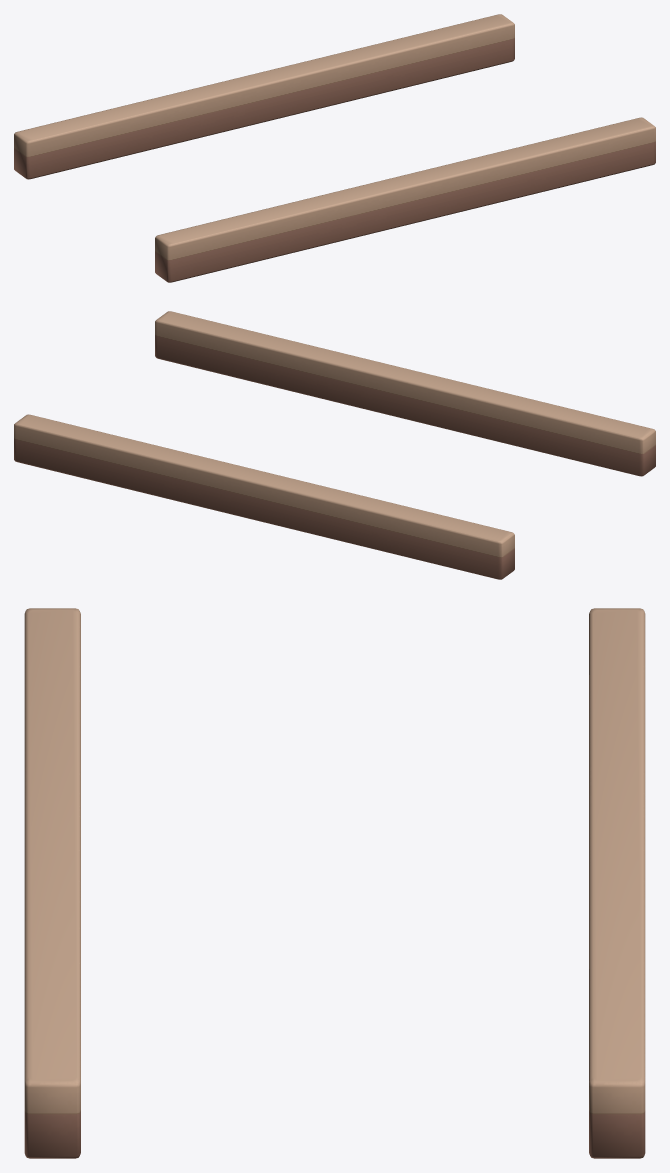
Rendered from Props.fbx.
3 renders of one model, top to bottom at view 1: azimuth 30°, elevation 25°; view 2: azimuth 150°, elevation 25°; view 3: azimuth 270°, elevation 25°, orthographic. The views are drawn at different scales.
Parts seen in each view (by area): view 1: Box20-3_1, Box20-3_1 (1); view 2: Box20-3_1, Box20-3_1 (1); view 3: Box20-3_1, Box20-3_1 (1).
Part boxes in pixels (<box>): Box20-3_1: <box>14,14,514,179</box>; Box20-3_1 (1): <box>155,117,655,282</box>; Box20-3_1: <box>14,414,514,579</box>; Box20-3_1 (1): <box>155,311,655,476</box>; Box20-3_1: <box>589,608,645,1158</box>; Box20-3_1 (1): <box>24,608,80,1158</box>.
Bounding box in the file's own units: 20 × 1.5 × 11.
